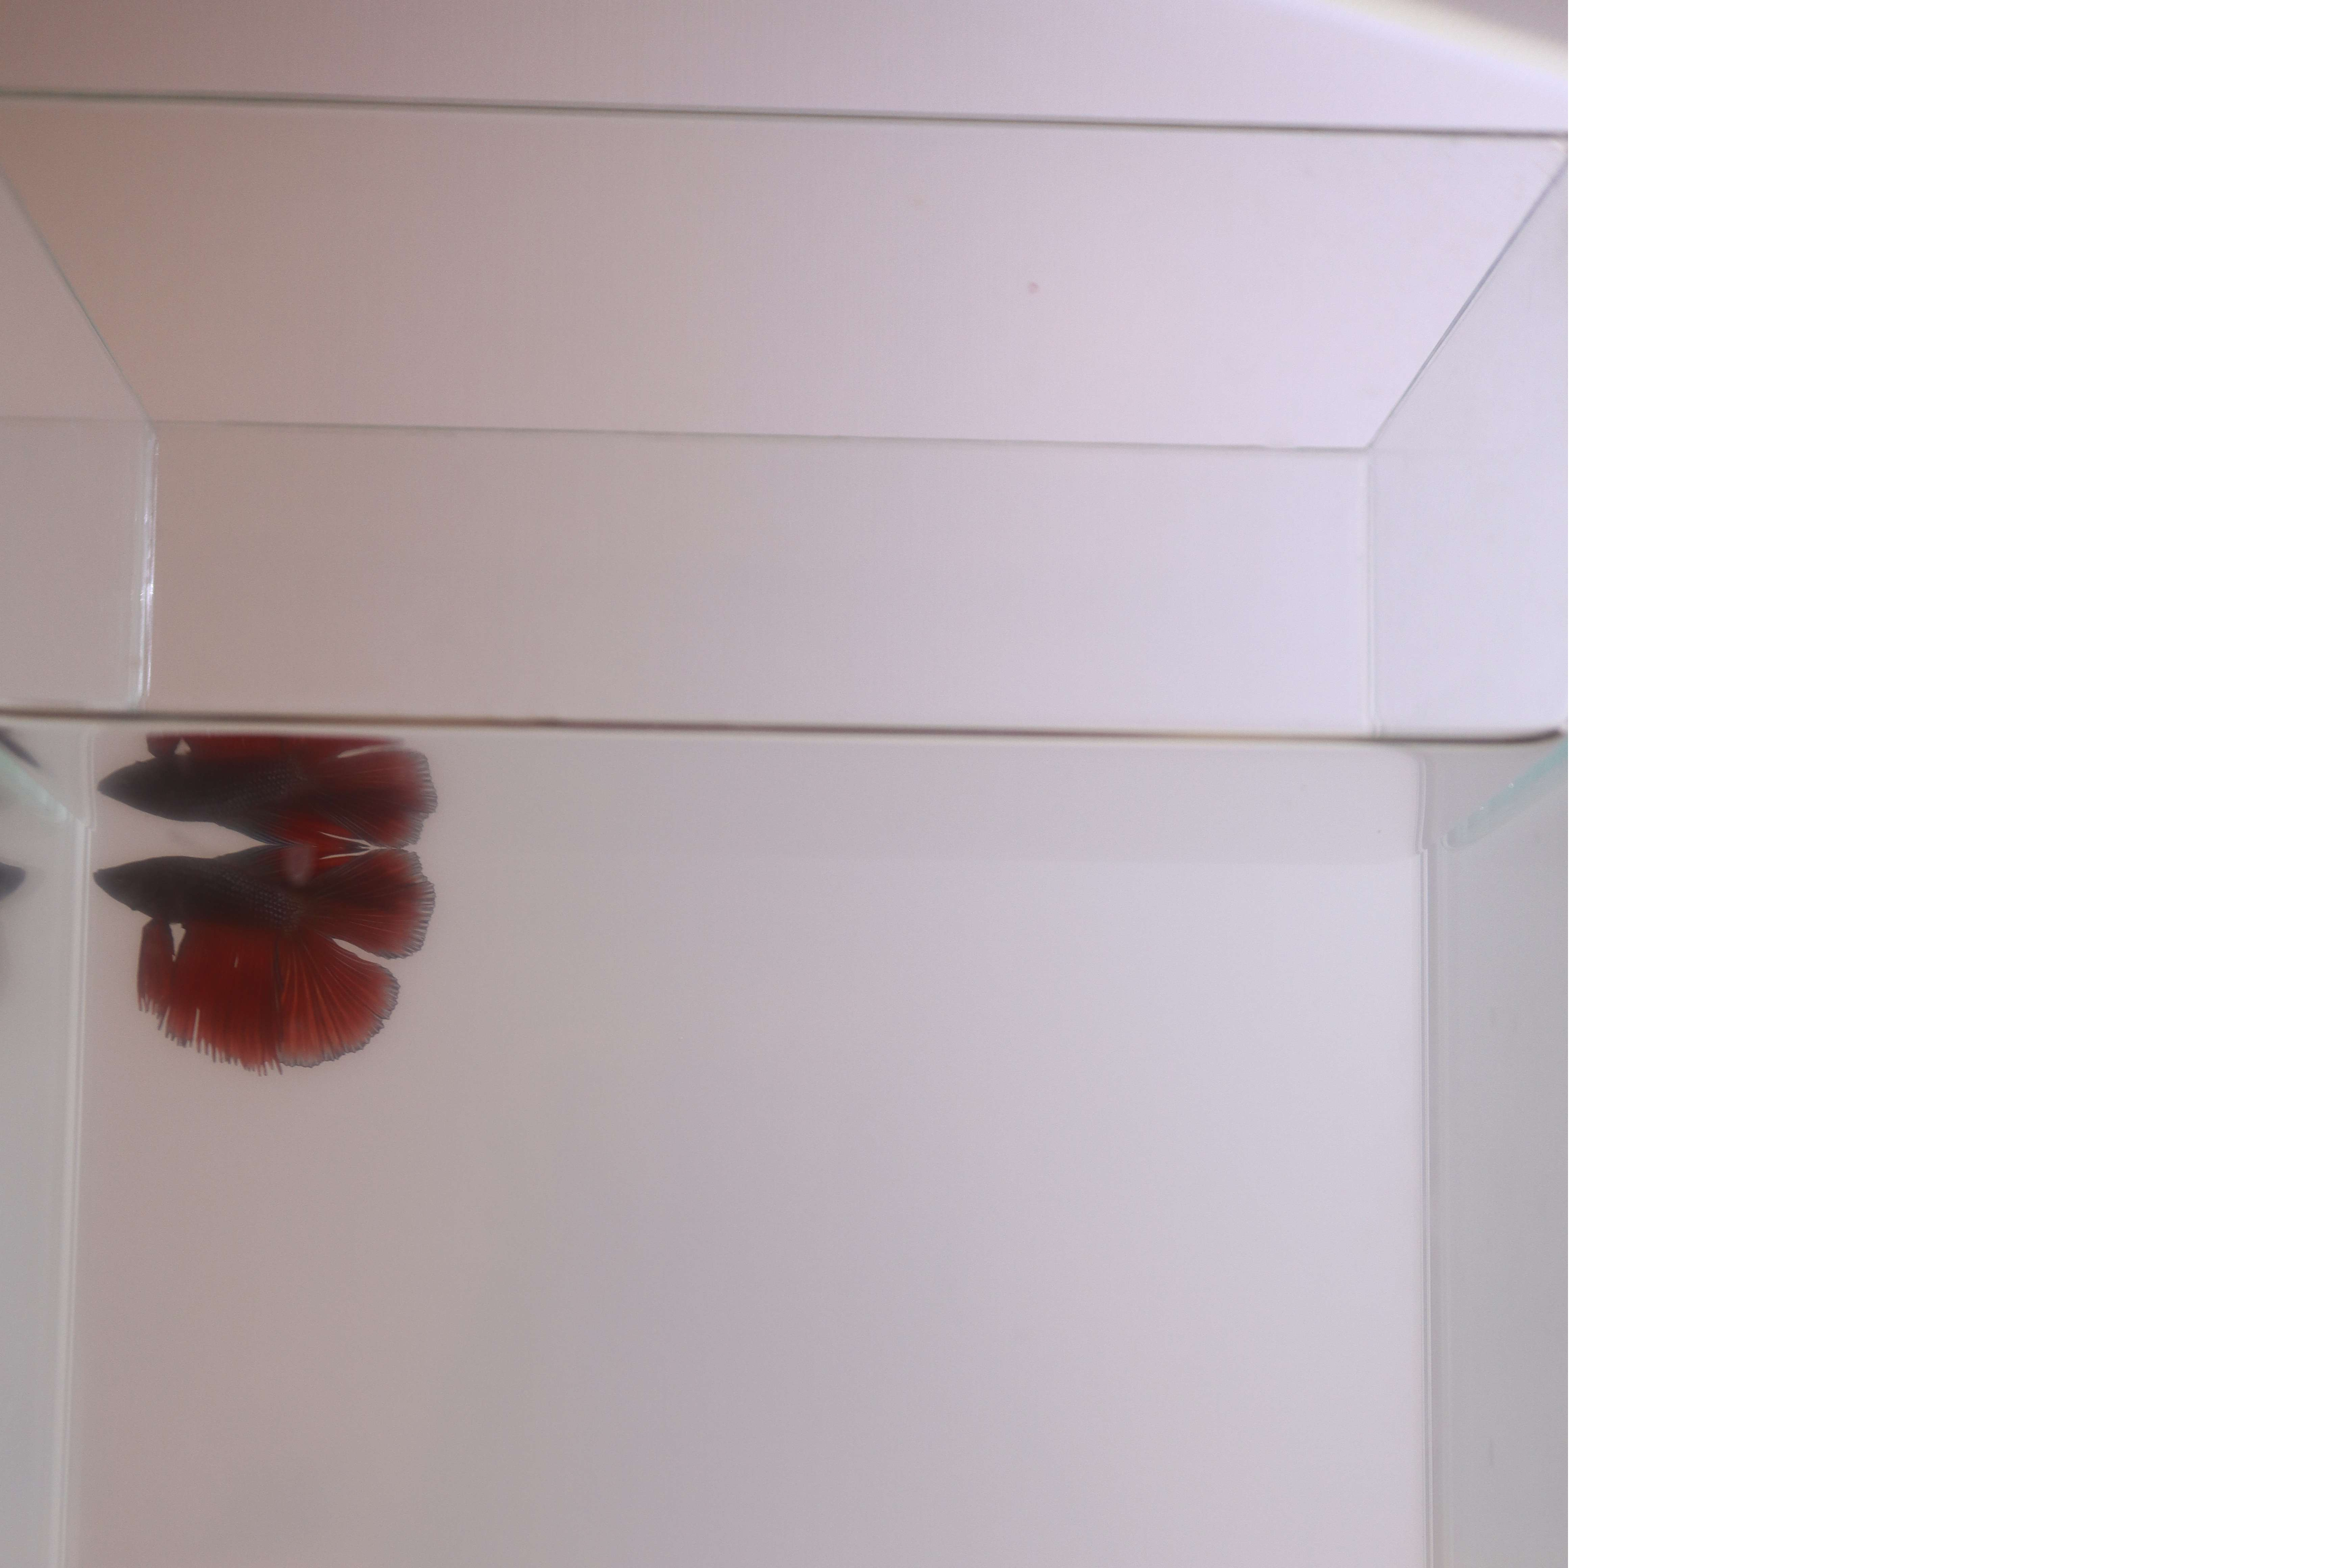fish: (88, 828, 436, 1078)
